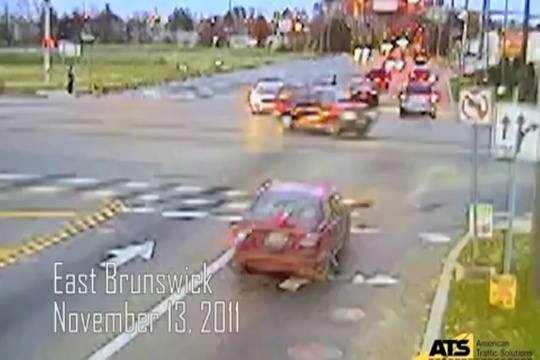car: (225, 178, 361, 283), (294, 96, 341, 136), (400, 82, 440, 120), (244, 80, 281, 116), (345, 75, 377, 101), (368, 66, 397, 91), (408, 66, 433, 80)
